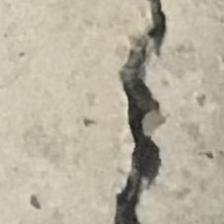Crack: (80, 0, 207, 224)
